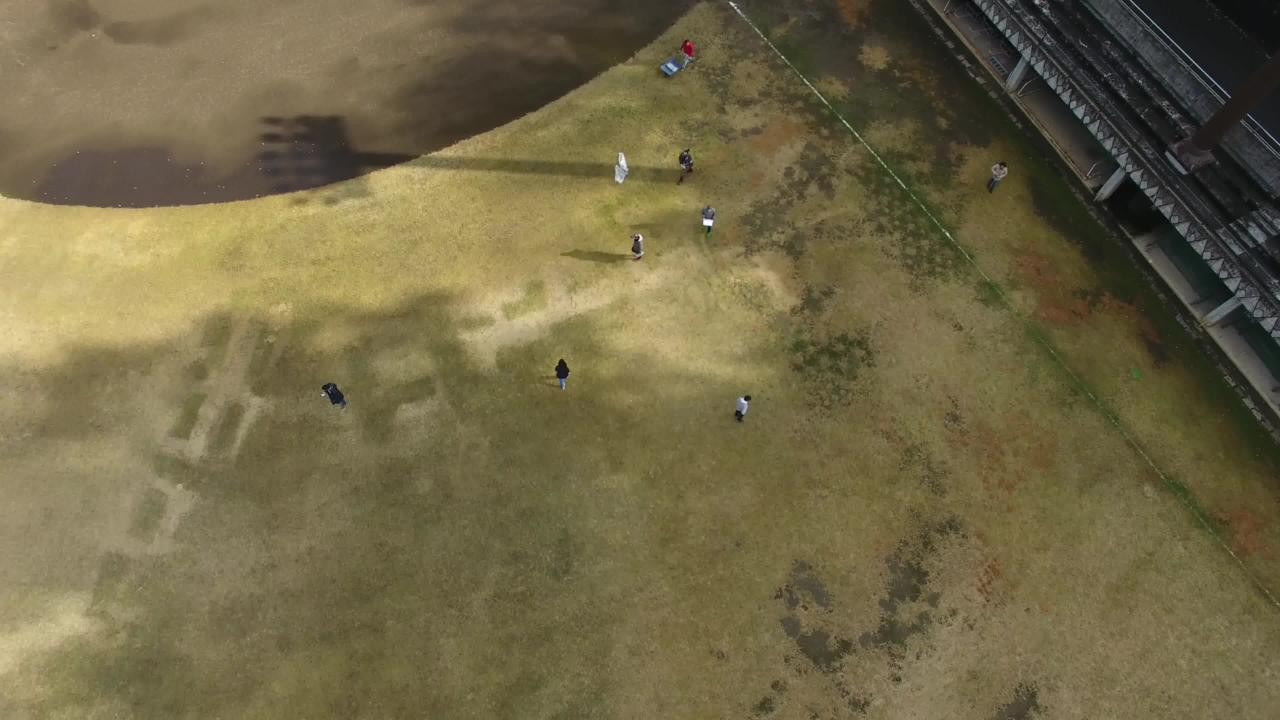person: (984, 156, 1020, 199), (672, 139, 708, 182), (690, 203, 726, 246), (726, 383, 762, 426), (616, 226, 652, 269), (549, 354, 585, 397), (310, 373, 346, 416), (668, 38, 704, 81)
